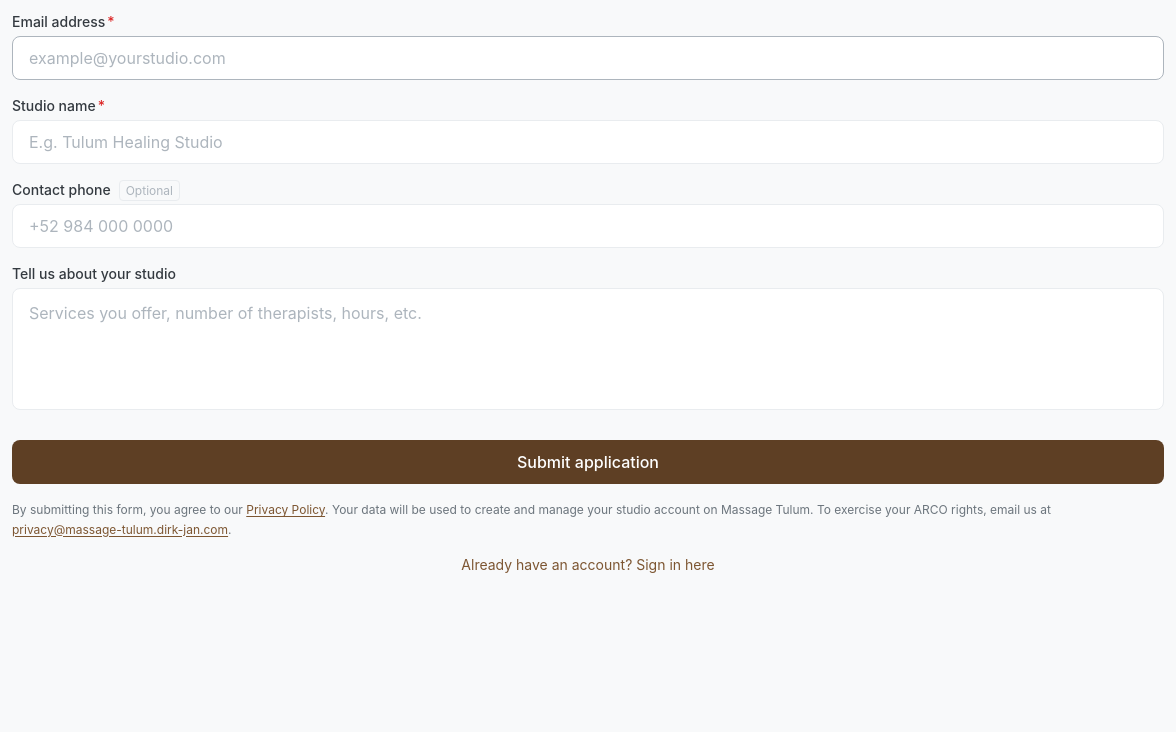
Test: SignupForm › validation (fires on submit, not on blur) › shows emailRequired when submitting empty email
Click the button "Submit application" at point(588, 462), box [12,440,1164,484]
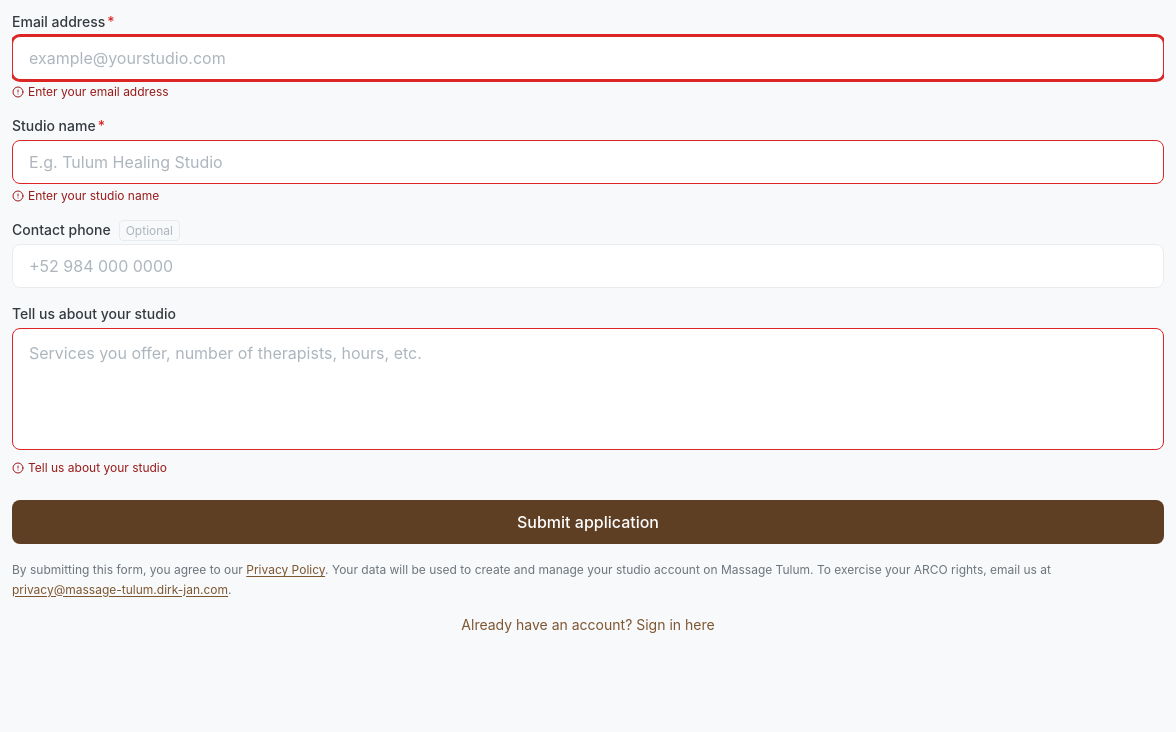
Expected: the text "Enter your email address" is shown, [12,84,168,99]
